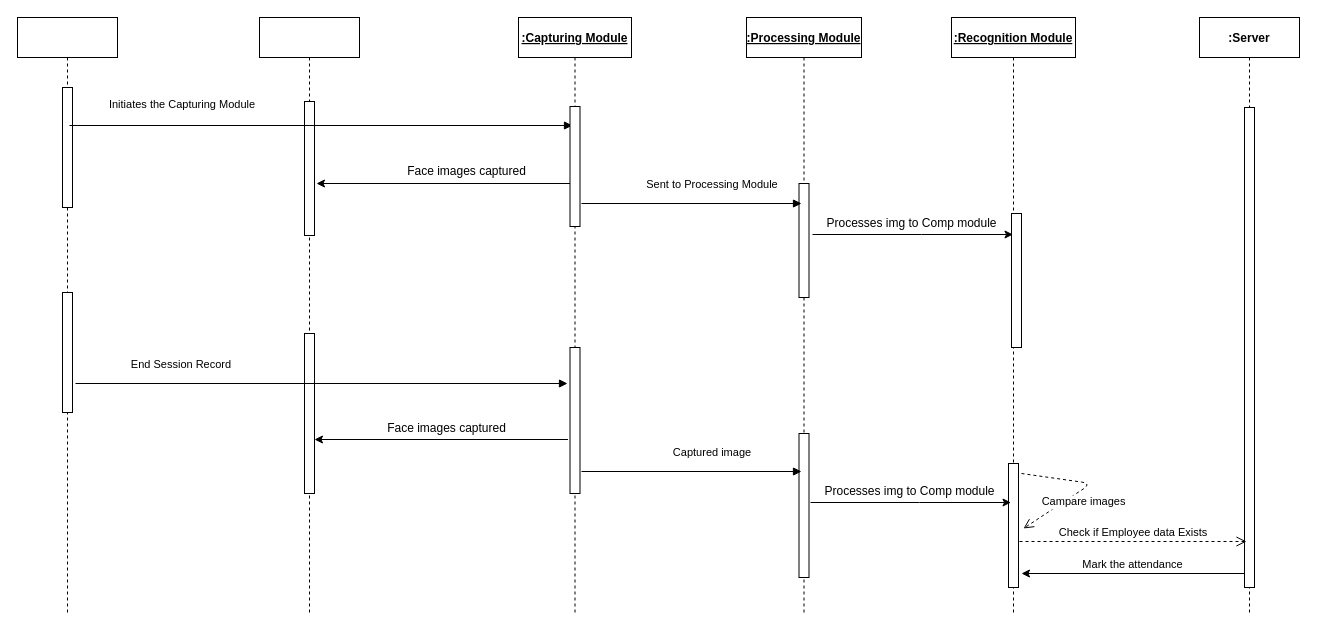
This 1317x631 diagram has some shape labels left out. Here are the shapes that lost their labels. From the top down, the centre of each, then its label:
At (x=67, y=315): ":Admin".
At (x=309, y=315): ":Employee".
